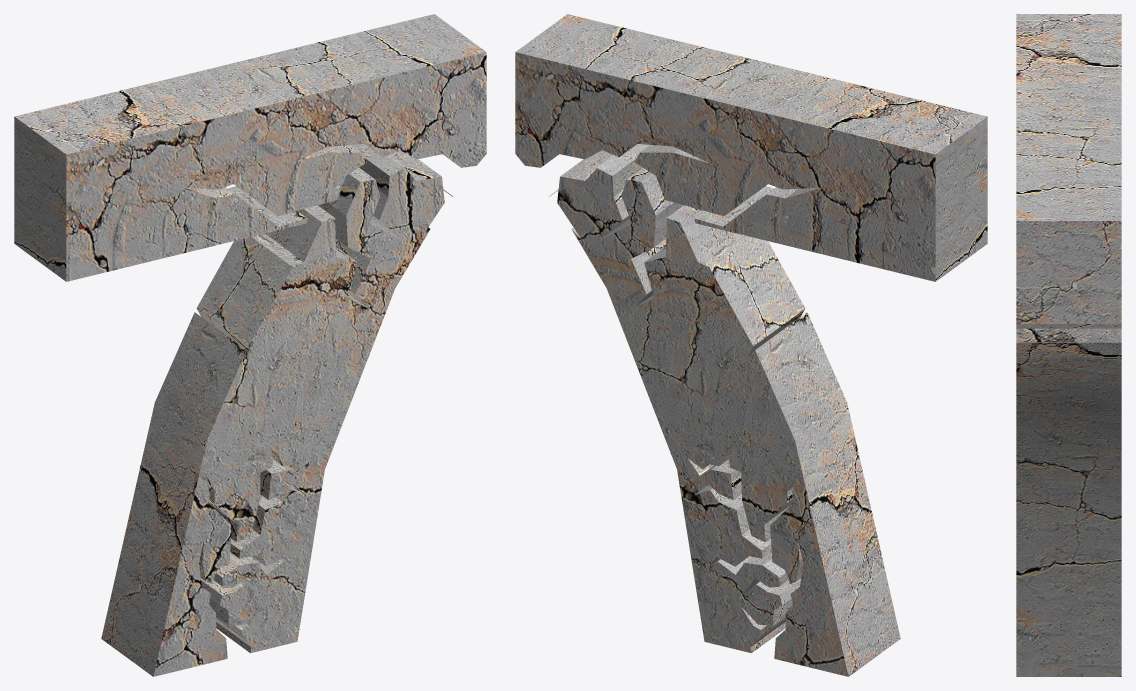
The picture shows the model from 3 angles, left to right: view 1: azimuth 30°, elevation 25°; view 2: azimuth 150°, elevation 25°; view 3: azimuth 270°, elevation 25°; orthographic projection.
Parts seen in each view (by area): view 1: 7; view 2: 7; view 3: 7.
Part boxes in pixels (<box>): 7: <box>14,14,486,676</box>; 7: <box>515,14,987,676</box>; 7: <box>1016,14,1121,676</box>.
Bounding box in the file's own units: 69.87 × 86.36 × 15.
1 material, 1 textured.
